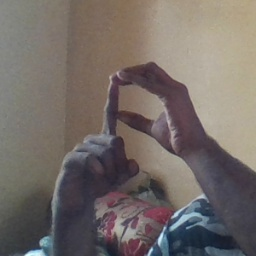P: (54, 59, 203, 187)
